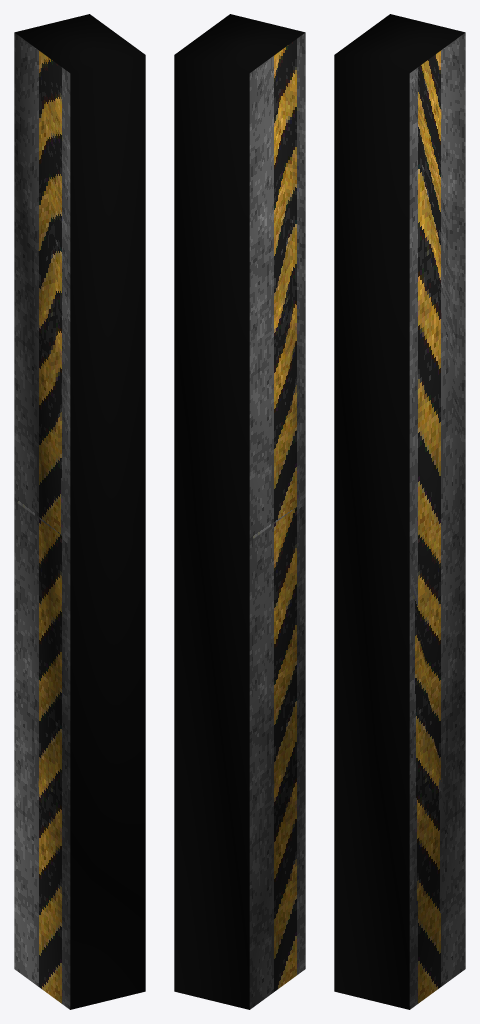
File: Cylinder_red_side_up_door-col.glb
The picture shows the model from 3 angles, left to right: view 1: azimuth 30°, elevation 25°; view 2: azimuth 150°, elevation 25°; view 3: azimuth 330°, elevation 25°; orthographic projection.
Parts seen in each view (by area): view 1: Cylinder_red_side_up_door-col; view 2: Cylinder_red_side_up_door-col; view 3: Cylinder_red_side_up_door-col.
Part boxes in pixels (left/top/right/bottom): Cylinder_red_side_up_door-col: left=14, top=14, right=145, bottom=1009; Cylinder_red_side_up_door-col: left=174, top=14, right=305, bottom=1009; Cylinder_red_side_up_door-col: left=334, top=14, right=465, bottom=1009.
Size of the model in its own units: 0.1537 by 1.82 by 0.1973.
Materials: 1 (1 with a texture image).
